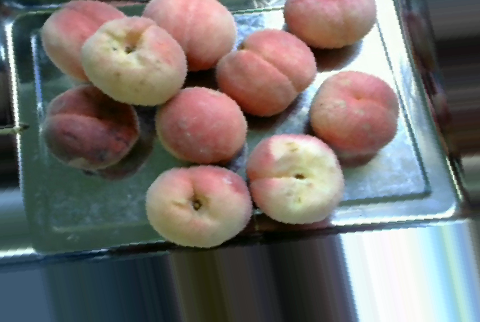Peach: (80, 16, 189, 106), (146, 165, 255, 250), (244, 134, 343, 225), (42, 84, 139, 172), (308, 70, 399, 158), (221, 30, 314, 114), (156, 85, 249, 165), (40, 0, 127, 82), (146, 0, 235, 73), (280, 0, 378, 49)
